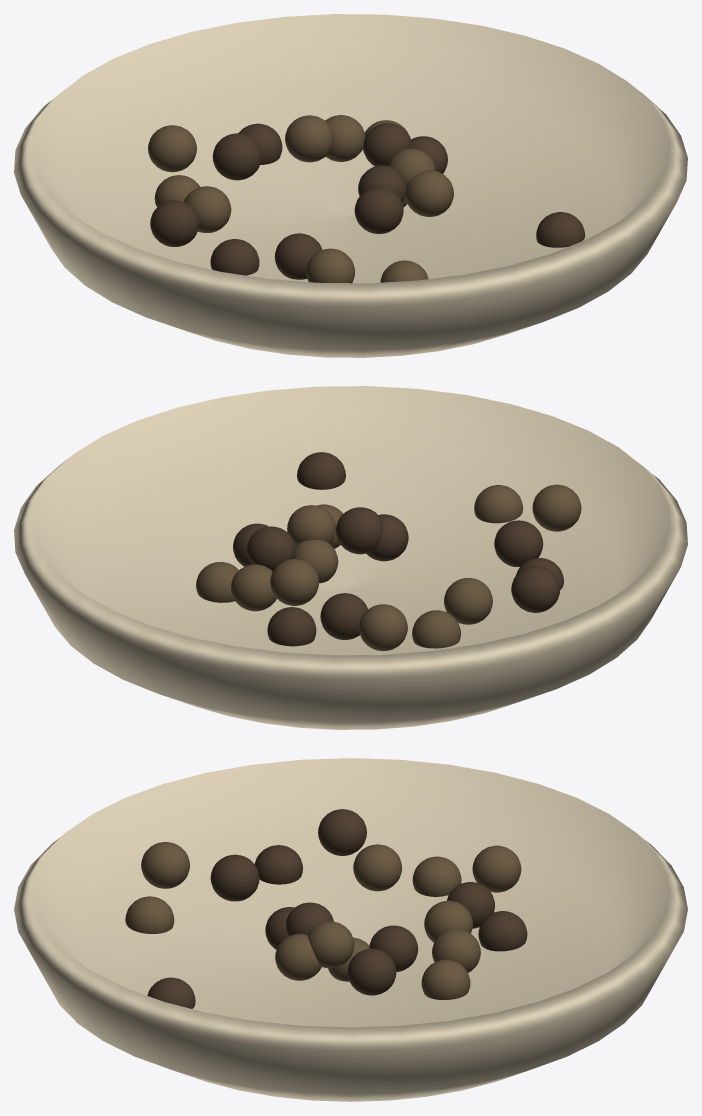
Rendered from props_p6__p6_pepper.glb.
3 renders of one model, top to bottom at view 1: azimuth 30°, elevation 25°; view 2: azimuth 150°, elevation 25°; view 3: azimuth 270°, elevation 25°, orthographic.
Parts seen in each view (by area): view 1: pepper_saucer, reference_static_surfaces (×2); view 2: pepper_saucer, reference_static_surfaces (×2); view 3: pepper_saucer, reference_static_surfaces (×2).
Boxes of the visible parts, x1,y1,x2,y2 form: pepper_saucer: [14, 14, 687, 357]; reference_static_surfaces (×2): [148, 115, 585, 283]; pepper_saucer: [14, 386, 687, 729]; reference_static_surfaces (×2): [196, 452, 581, 651]; pepper_saucer: [14, 758, 687, 1101]; reference_static_surfaces (×2): [125, 809, 527, 1008].
Bounding box in the file's own units: 0.09 × 0.0155 × 0.09.
